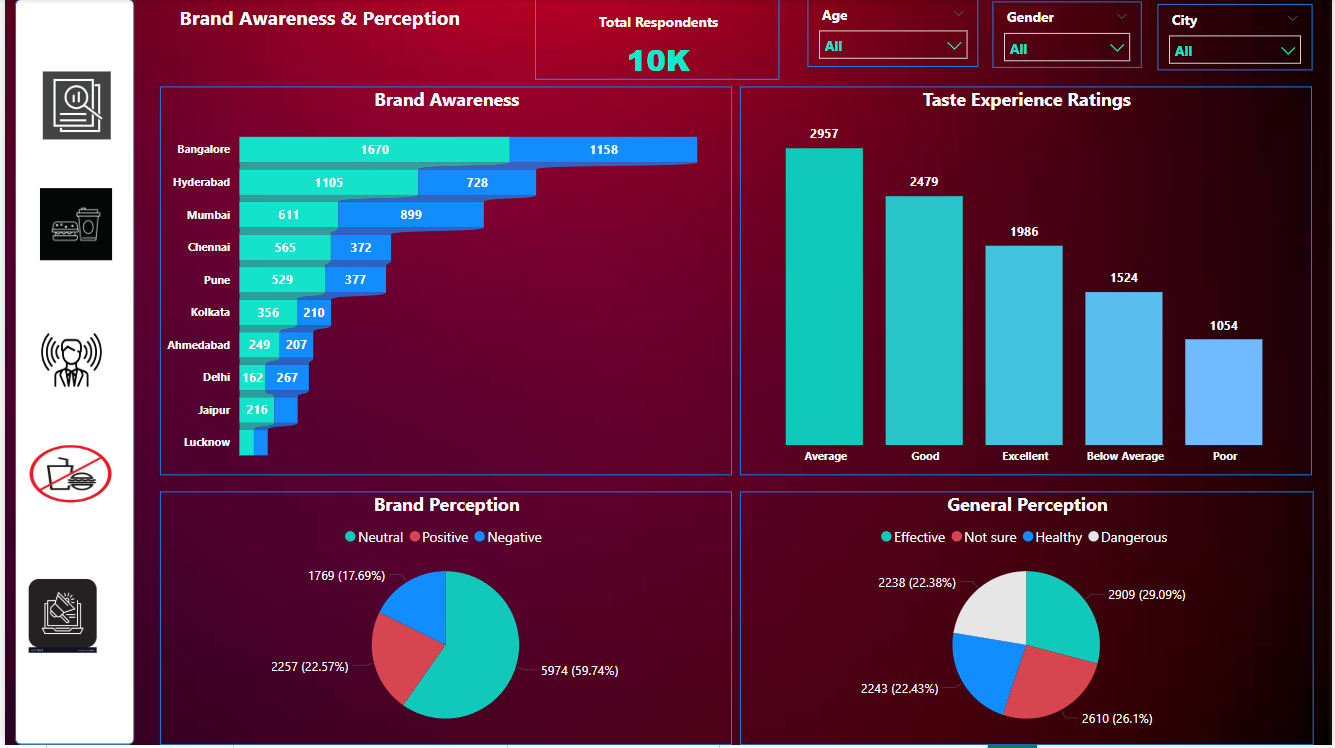

Layout of this report page (visuals, bound fields, positions):
{"tool":"powerbi","page":{"name":"Brand Awareness and Perception","canvas":[1280,720],"ordinal":2},"visuals":[{"type":"shape","box":[10,0,115.2,719.6],"z":0},{"type":"image","box":[29.9,310,68.3,76.8],"z":1000},{"type":"image","box":[15.6,423.8,95.3,69.7],"z":2000},{"type":"image","box":[15.6,65.4,106.7,75.4],"z":3000},{"type":"image","box":[12.8,554.7,85.3,81.1],"z":4000},{"type":"image","box":[28.4,176.4,79.6,82.5],"z":5000},{"type":"textbox","box":[125.2,0,357,65.4],"z":6000},{"type":"slicer","fields":{"Values":["dim_repondents.Age"]},"box":[775.1,0,165,65.4],"z":7000},{"type":"slicer","fields":{"Values":["dim_repondents.Gender"]},"box":[952.9,2.8,143.6,64],"z":8000},{"type":"slicer","fields":{"Values":["dim_cities.City"]},"box":[1112.2,4.3,149.3,64],"z":9000},{"type":"barChart","title":"Brand Awareness","fields":{"Category":["dim_cities.City"],"Y":["CountNonNull(fact_survey_responses.Heard_before)"],"Series":["fact_survey_responses.Heard_before"]},"box":[149.3,83.9,551.8,375.5],"z":10000},{"type":"pieChart","title":"Brand Perception","fields":{"Category":["fact_survey_responses.Brand_perception"],"Y":["CountNonNull(fact_survey_responses.Brand_perception)"]},"box":[149.3,475,551.8,244.6],"z":11000},{"type":"pieChart","title":"General Perception","fields":{"Category":["fact_survey_responses.General_perception"],"Y":["CountNonNull(fact_survey_responses.General_perception)"]},"box":[709.7,475,553.2,244.6],"z":12000},{"type":"clusteredColumnChart","title":"Taste Experience Ratings","fields":{"Category":["fact_survey_responses.Taste Experience "],"Y":["CountNonNull(fact_survey_responses.Taste Experience )"]},"box":[709.7,83.9,551.8,375.5],"z":13000},{"type":"cardVisual","fields":{"Data":["dim_repondents.Total Respondents"]},"box":[506.3,0,246,83.9],"z":14000}]}

Visuals, with their boxes in screenshot pixels (x1, y1, x2, y2), scaled from the page's 1280x720 canvas onto the 1335x748 screenshot:
shape: 10/0/131/747
image: 31/322/102/402
image: 16/440/116/513
image: 16/68/128/146
image: 13/576/102/661
image: 30/183/113/269
textbox: 131/0/503/68
slicer - dim_repondents.Age: 808/0/980/68
slicer - dim_repondents.Gender: 994/3/1144/69
slicer - dim_cities.City: 1160/4/1316/71
"Brand Awareness" barChart: 156/87/731/477
"Brand Perception" pieChart: 156/493/731/747
"General Perception" pieChart: 740/493/1317/747
"Taste Experience Ratings" clusteredColumnChart: 740/87/1316/477
cardVisual - dim_repondents.Total Respondents: 528/0/785/87
